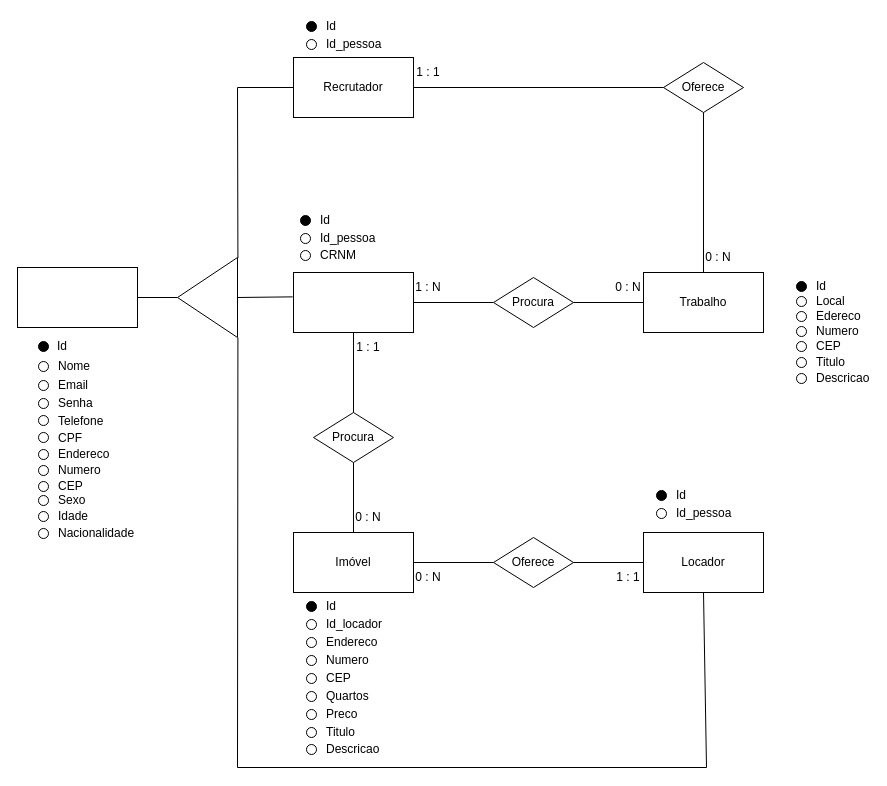
Some shapes in this 887 by 786 pixel diagram are drawn without their labels. Each missing label, with the centre of its shape:
Pessoa: the point at 77,297
Refugiado: the point at 353,302
